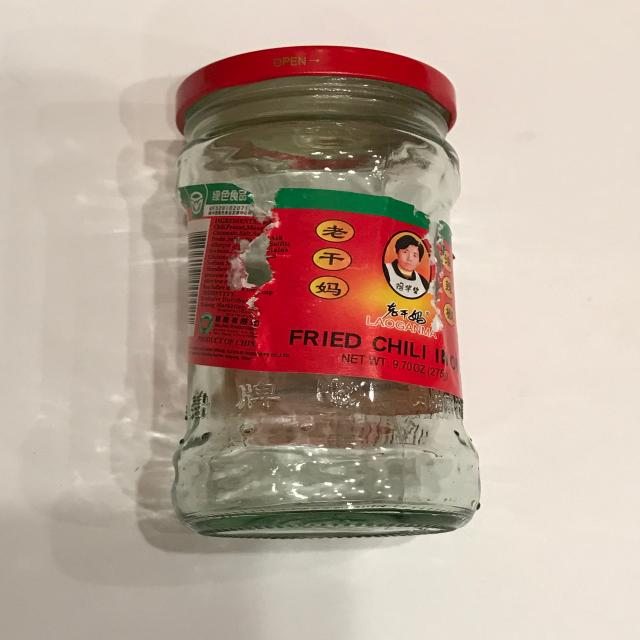glass: (170, 45, 482, 538)
